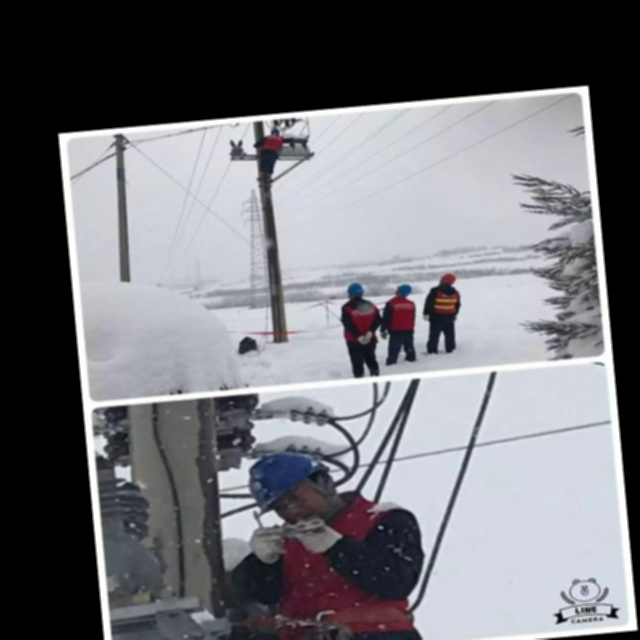Con_Casco: (246, 448, 338, 523)
Con_Chaleco: (425, 285, 462, 319)
